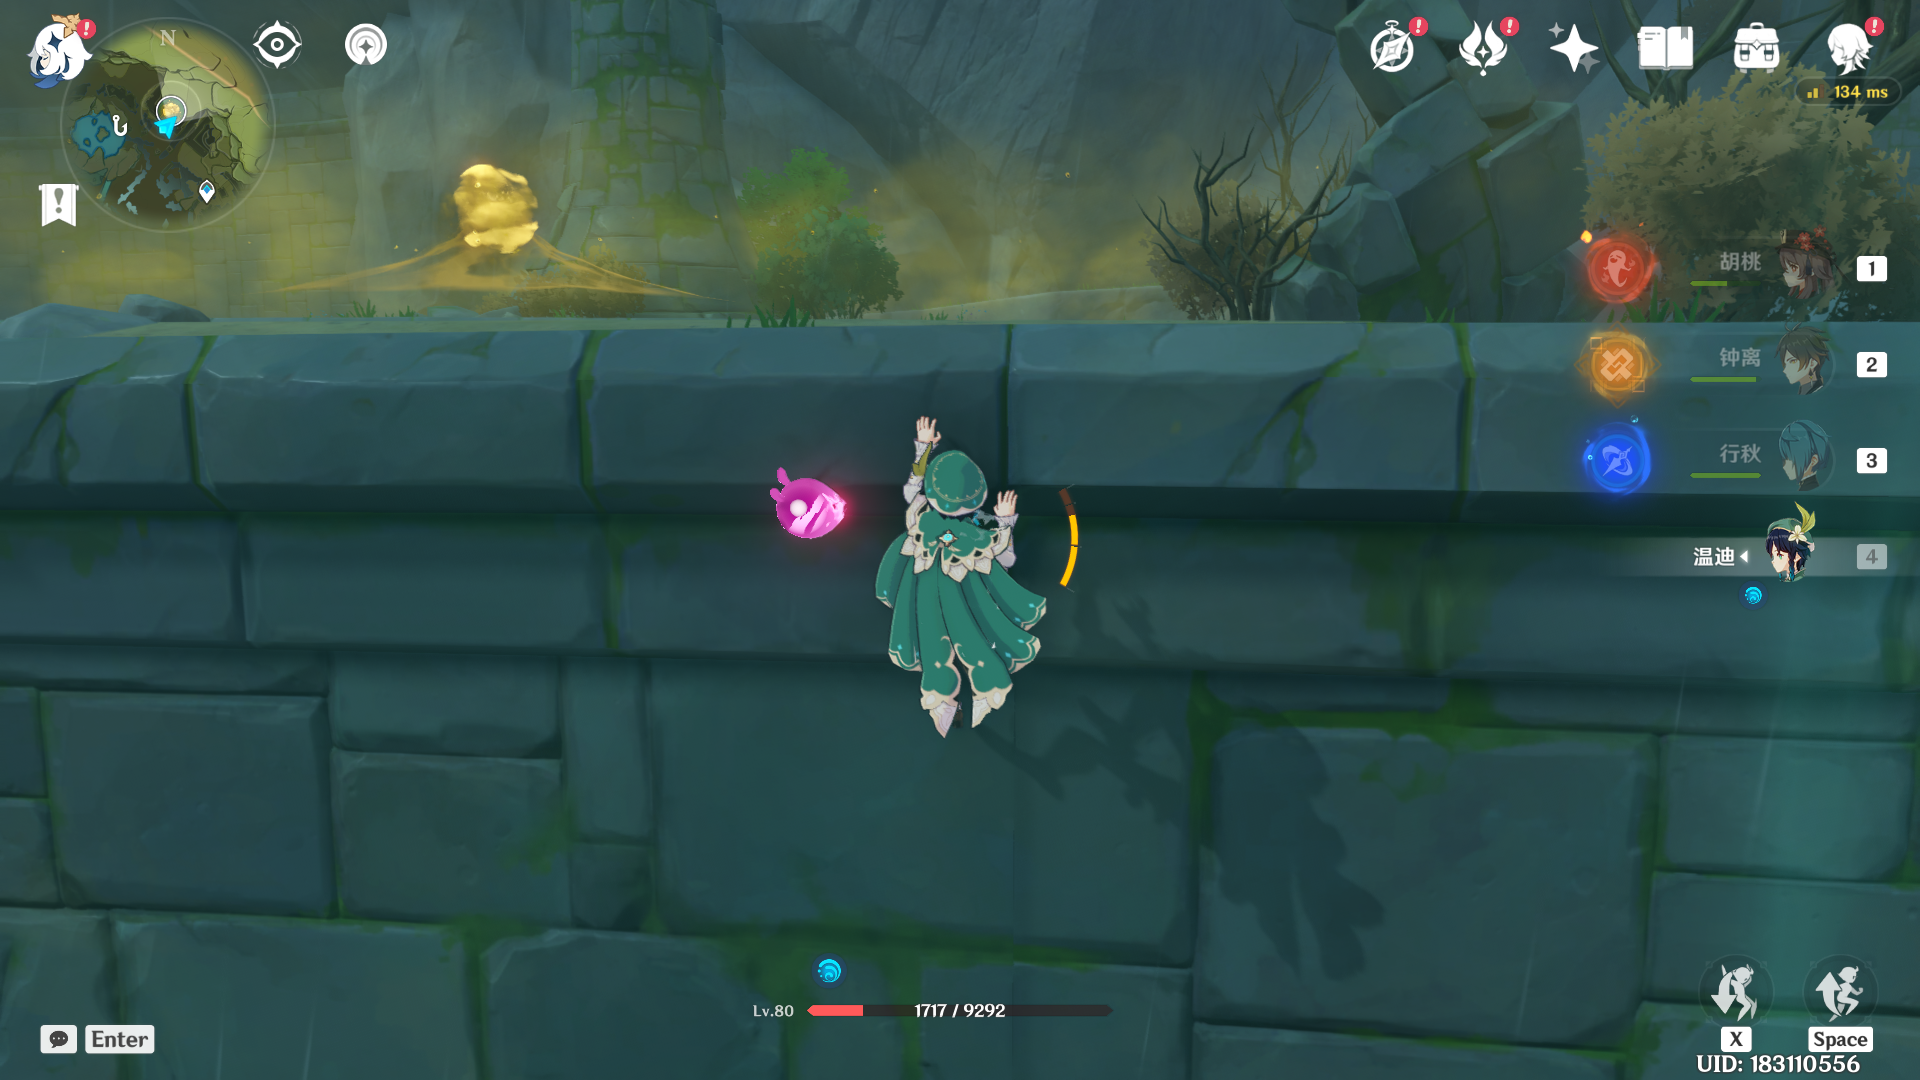character: (868, 440, 1095, 764)
